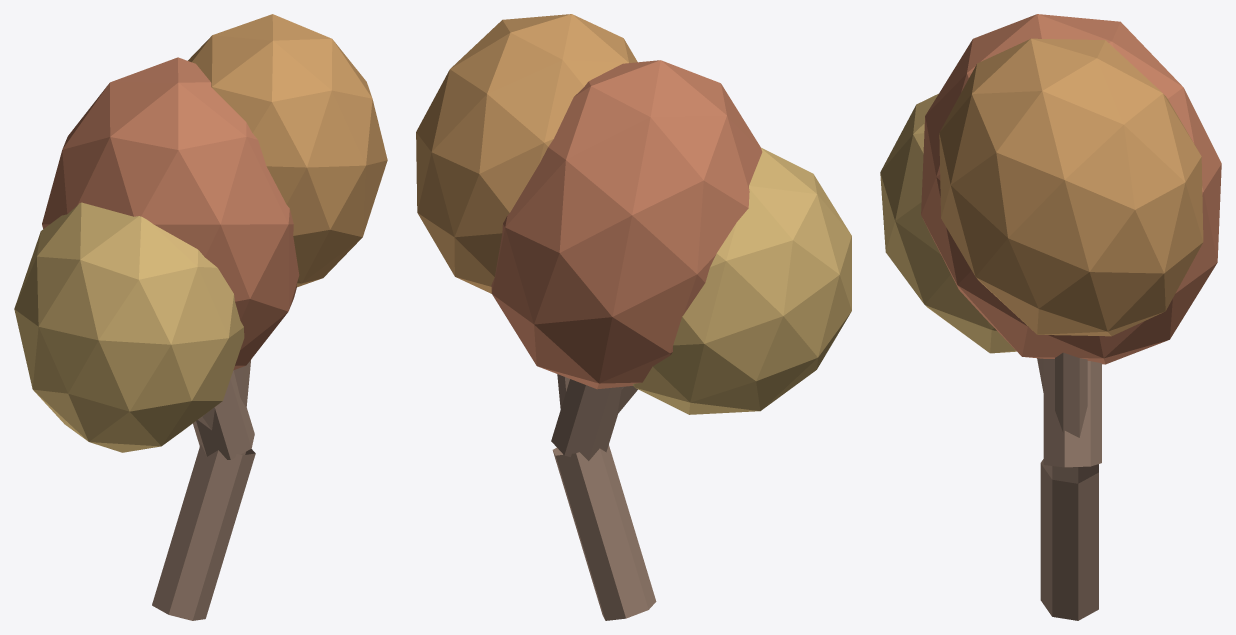
3 renders of one model, left to right at view 1: azimuth 30°, elevation 25°; view 2: azimuth 150°, elevation 25°; view 3: azimuth 270°, elevation 25°, orthographic. The views are drawn at different scales.
Visible parts, largest first — view 1: T10; view 2: T10; view 3: T10.
Boxes of the visible parts, bbox=[...] form: T10: bbox=[14, 14, 387, 620]; T10: bbox=[416, 14, 851, 620]; T10: bbox=[880, 14, 1221, 620].
Bounding box in the file's own units: 1.33 × 1.97 × 0.9988.
